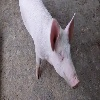heo: (33, 12, 83, 91)
